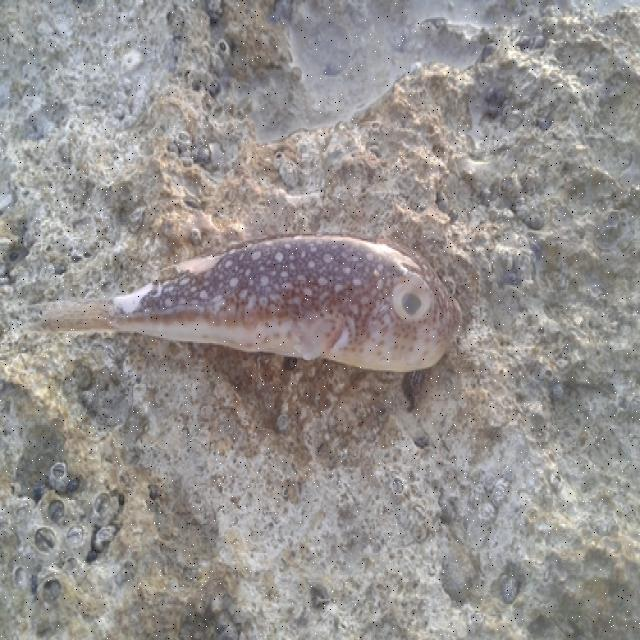Balik: (38, 236, 460, 372)
